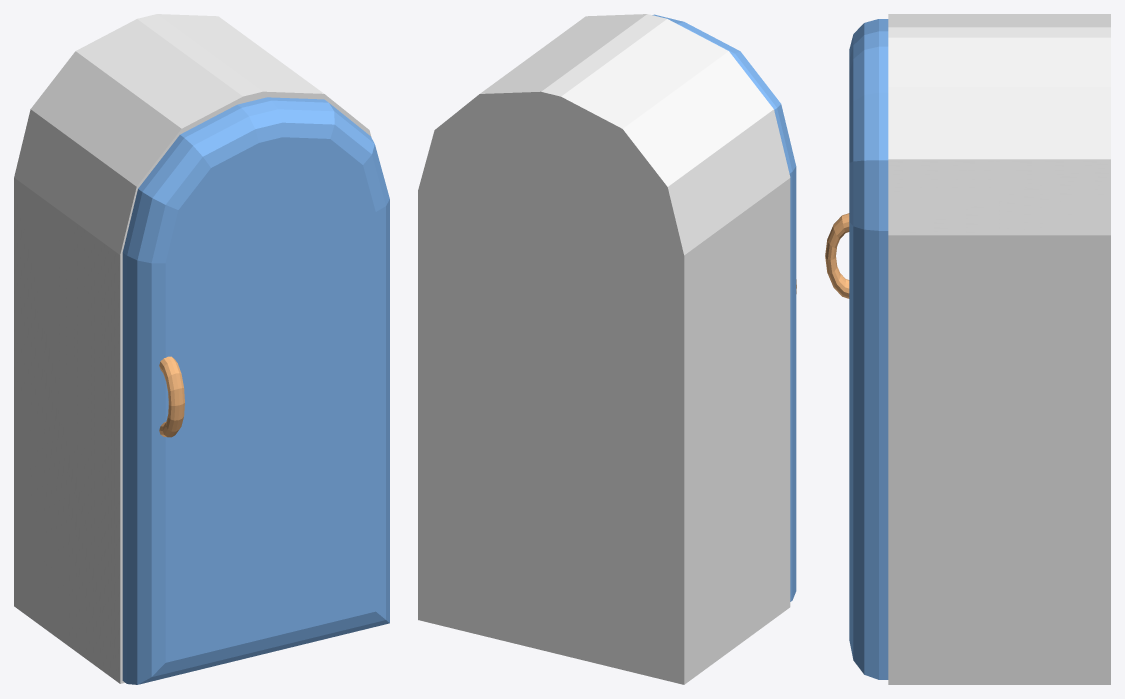
The model's file is Refrigerator_5.fbx.
3 renders of one model, left to right at view 1: azimuth 30°, elevation 25°; view 2: azimuth 150°, elevation 25°; view 3: azimuth 270°, elevation 25°, orthographic. The views are drawn at different scales.
Parts seen in each view (by area): view 1: Refrigerator_5 Door, Refrigerator_5; view 2: Refrigerator_5, Refrigerator_5 Door; view 3: Refrigerator_5, Refrigerator_5 Door.
Boxes of the visible parts, <box> form: Refrigerator_5 Door: <box>122,97,389,684</box>; Refrigerator_5: <box>14,14,371,683</box>; Refrigerator_5: <box>418,14,790,684</box>; Refrigerator_5 Door: <box>652,14,796,601</box>; Refrigerator_5: <box>888,14,1110,684</box>; Refrigerator_5 Door: <box>825,19,888,679</box>.
Bounding box in the file's own units: 1.06 × 2.13 × 0.9454.
